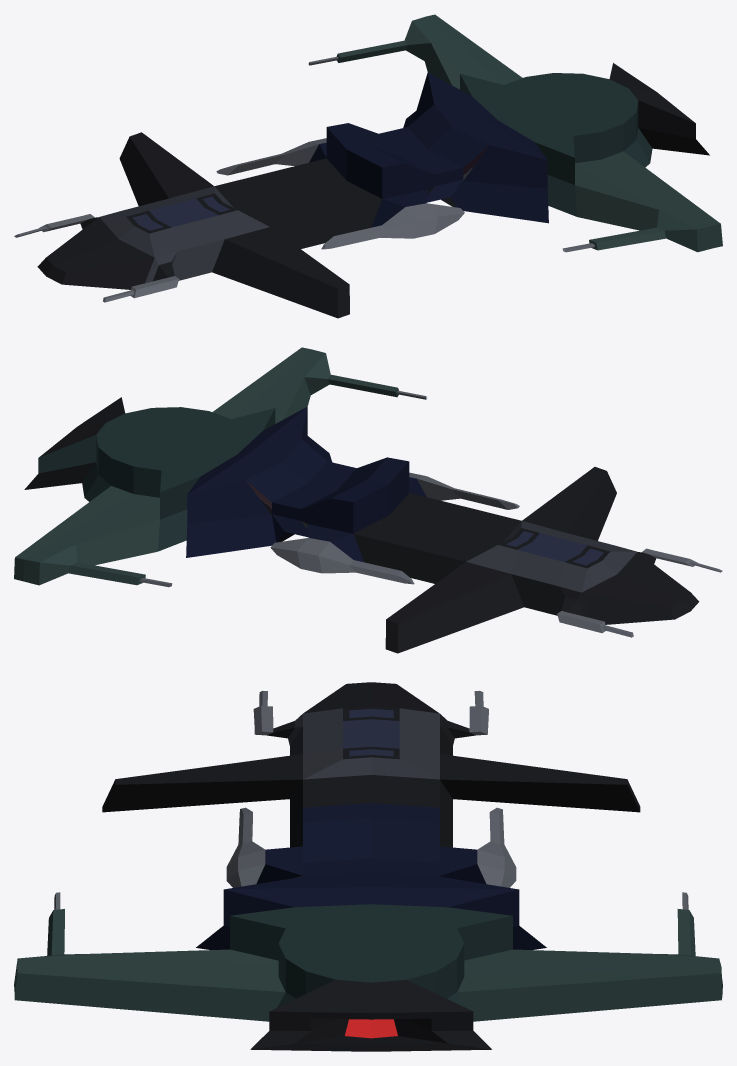
The model's file is damageShip.fbx.
3 views of the same model, one above another, from view 1: azimuth 30°, elevation 25°; view 2: azimuth 150°, elevation 25°; view 3: azimuth 270°, elevation 25° (orthographic). The views are drawn at different scales.
Visible parts, largest first — view 1: Plane; view 2: Plane; view 3: Plane.
Boxes of the visible parts, <box> form: Plane: <box>14,14,722,318</box>; Plane: <box>14,347,722,653</box>; Plane: <box>14,682,722,1051</box>.
Size of the model in its own units: 66.66 by 6.23 by 53.78.
Materials: 1 (1 with a texture image).
